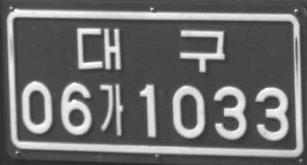0: (171, 83, 206, 139), (21, 79, 54, 135)
1: (132, 84, 165, 137)
3: (213, 85, 248, 140), (255, 86, 289, 141)
6: (60, 82, 92, 135)
가: (98, 83, 124, 135)
대구_D: (76, 26, 225, 72)
